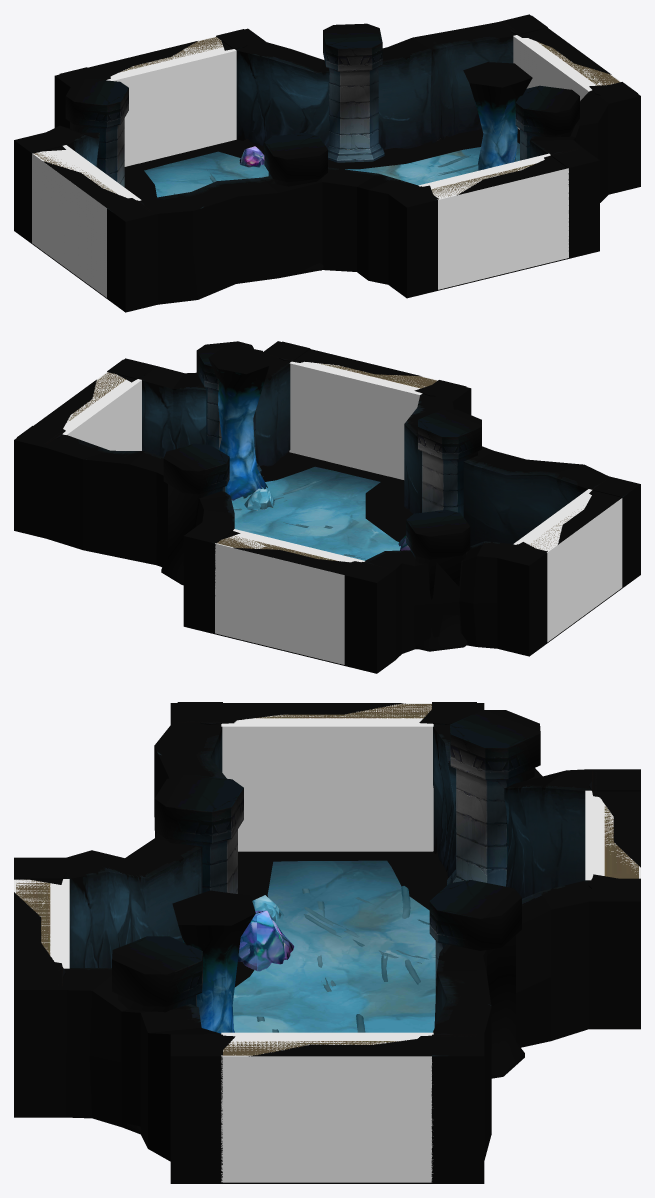
The model's file is Dungeon_033_RoadX_001.fbx.
3 renders of one model, top to bottom at view 1: azimuth 30°, elevation 25°; view 2: azimuth 150°, elevation 25°; view 3: azimuth 270°, elevation 25°, orthographic. The views are drawn at different scales.
Parts seen in each view (by area): view 1: Dan1, DoorWay_NavMask (1) (×4), Dun_011_Door_002_old (×4), Dungeon_033_Pillar_001, Dan002_02, Dungeon_011_Object_010, Dungeon_033_Pillar_001 (3), Dan1_shadow, Dungeon_033_Pillar_001 (1), Dungeon_033_Pillar_001 (2), Dun_011_Door_003_WarpRoom (×3), Dun_011_Door_002_shadow; view 2: Dan1, DoorWay_NavMask (1) (×4), Dan002_02, Dun_011_Door_002_old (×4), Dungeon_011_Object_010, Dungeon_033_Pillar_001 (2), Dungeon_033_Pillar_001, Dungeon_033_Pillar_001 (3), Dan1_shadow, Dun_011_Door_003_WarpRoom (×3), Dungeon_033_Pillar_001 (1), Dun_011_Door_002 (×2) (+2 smaller); view 3: Dan1, DoorWay_NavMask (1) (×4), Dan002_02, Dun_011_Door_002_old (×4), Dungeon_033_Pillar_001 (3), Dungeon_033_Pillar_001, Dungeon_033_Pillar_001 (2), Dungeon_011_Object_010, Dungeon_033_Pillar_001 (1), Dun_011_Door_003_WarpRoom (×4), Dan1_shadow, Dun_011_Door_002 (×3) (+3 smaller).
Part boxes in pixels (left/top/right/bottom): Dan1: left=14, top=14, right=640, bottom=312; DoorWay_NavMask (1) (×4): left=32, top=35, right=621, bottom=297; Dun_011_Door_002_old (×4): left=17, top=15, right=637, bottom=219; Dungeon_033_Pillar_001: left=323, top=23, right=384, bottom=162; Dan002_02: left=144, top=142, right=519, bottom=197; Dungeon_011_Object_010: left=463, top=62, right=532, bottom=170; Dungeon_033_Pillar_001 (3): left=65, top=78, right=128, bottom=187; Dan1_shadow: left=124, top=128, right=519, bottom=199; Dungeon_033_Pillar_001 (1): left=515, top=85, right=579, bottom=160; Dungeon_033_Pillar_001 (2): left=264, top=132, right=327, bottom=272; Dun_011_Door_003_WarpRoom (×3): left=120, top=37, right=619, bottom=198; Dun_011_Door_002_shadow: left=139, top=147, right=217, bottom=170; Dan1: left=14, top=341, right=640, bottom=673; DoorWay_NavMask (1) (×4): left=62, top=361, right=622, bottom=664; Dan002_02: left=231, top=466, right=400, bottom=560; Dun_011_Door_002_old (×4): left=17, top=341, right=637, bottom=581; Dungeon_011_Object_010: left=208, top=344, right=268, bottom=500; Dungeon_033_Pillar_001 (2): left=418, top=409, right=481, bottom=516; Dungeon_033_Pillar_001: left=161, top=443, right=229, bottom=585; Dungeon_033_Pillar_001 (3): left=406, top=509, right=470, bottom=651; Dan1_shadow: left=260, top=451, right=412, bottom=541; Dun_011_Door_003_WarpRoom (×3): left=68, top=363, right=436, bottom=561; Dungeon_033_Pillar_001 (1): left=196, top=341, right=261, bottom=472; Dun_011_Door_002 (×2): left=206, top=478, right=637, bottom=665; Dan1: left=14, top=703, right=640, bottom=1183; DoorWay_NavMask (1) (×4): left=14, top=703, right=640, bottom=1182; Dan002_02: left=232, top=860, right=435, bottom=1032; Dun_011_Door_002_old (×4): left=14, top=702, right=640, bottom=1182; Dungeon_033_Pillar_001 (3): left=447, top=710, right=540, bottom=886; Dungeon_033_Pillar_001: left=429, top=880, right=524, bottom=1078; Dungeon_033_Pillar_001 (2): left=154, top=774, right=243, bottom=893; Dungeon_011_Object_010: left=172, top=890, right=255, bottom=1033; Dungeon_033_Pillar_001 (1): left=112, top=936, right=202, bottom=1133; Dun_011_Door_003_WarpRoom (×4): left=16, top=704, right=638, bottom=1055; Dan1_shadow: left=234, top=851, right=448, bottom=987; Dun_011_Door_002 (×3): left=177, top=702, right=640, bottom=1183.
Size of what is drawn, in the model's own units: 12 by 2.96 by 9.
